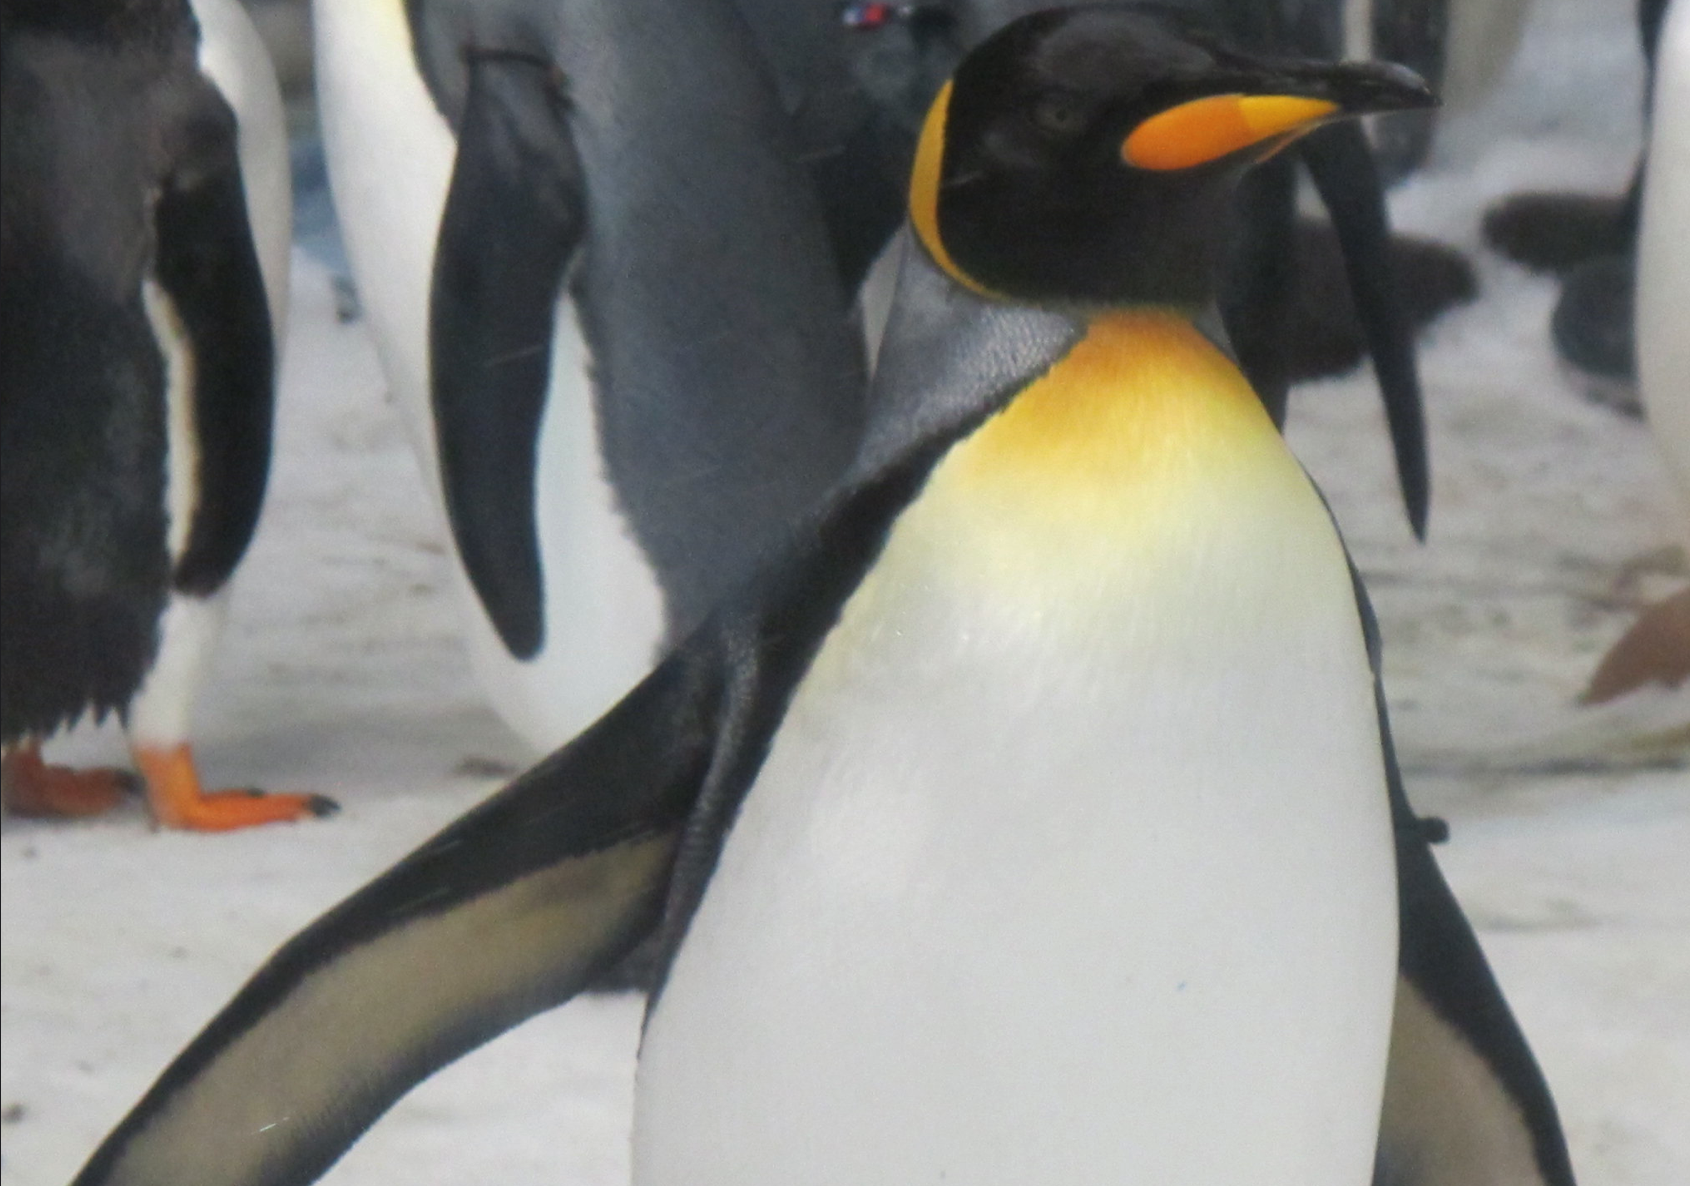penguin: (58, 17, 1587, 1186)
